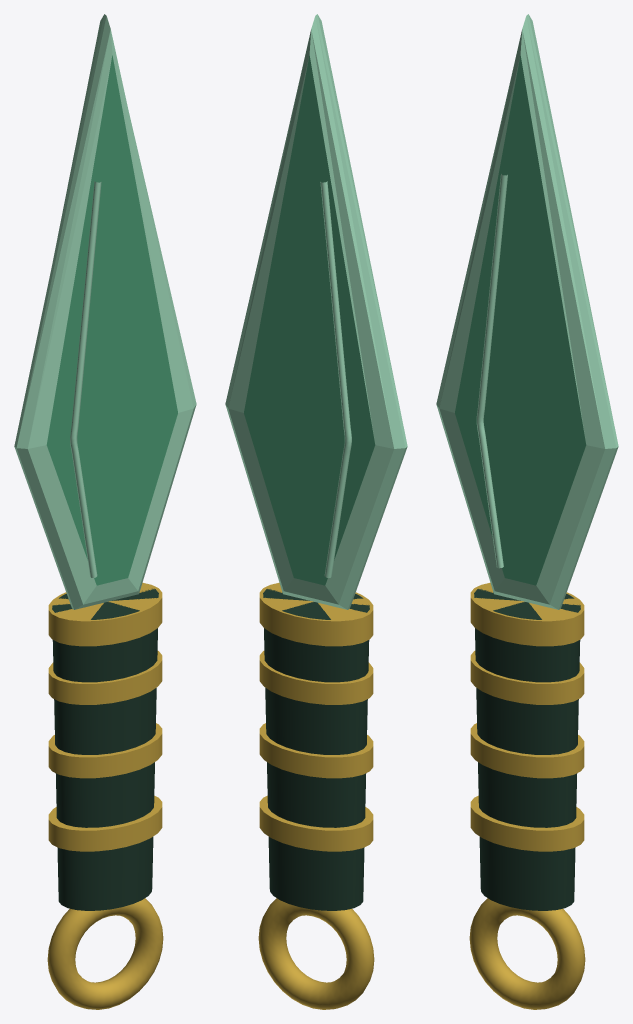
File: 09_Uncommon_Jade_Kunai.glb
The picture shows the model from 3 angles, left to right: view 1: azimuth 30°, elevation 25°; view 2: azimuth 150°, elevation 25°; view 3: azimuth 330°, elevation 25°; orthographic projection.
Parts seen in each view (by area): view 1: blade_0, handle_1, pommel_ring_6, ferrule_5, blade_inlay_8, handle_band_4, handle_band_3, handle_band_2; view 2: blade_0, handle_1, pommel_ring_6, ferrule_5, blade_inlay_7, handle_band_4, handle_band_3, handle_band_2; view 3: blade_0, handle_1, pommel_ring_6, ferrule_5, blade_inlay_8, handle_band_4, handle_band_3, handle_band_2.
Part boxes in pixels (bbox=[...]): blade_0: bbox=[14, 14, 196, 609]; handle_1: bbox=[52, 588, 158, 910]; pommel_ring_6: bbox=[47, 898, 163, 1009]; ferrule_5: bbox=[48, 582, 162, 646]; blade_inlay_8: bbox=[70, 181, 101, 577]; handle_band_4: bbox=[48, 795, 162, 851]; handle_band_3: bbox=[48, 723, 162, 778]; handle_band_2: bbox=[48, 651, 162, 704]; blade_0: bbox=[225, 14, 407, 609]; handle_1: bbox=[263, 589, 369, 910]; pommel_ring_6: bbox=[258, 898, 374, 1009]; ferrule_5: bbox=[259, 582, 373, 646]; blade_inlay_7: bbox=[320, 181, 351, 577]; handle_band_4: bbox=[259, 795, 373, 851]; handle_band_3: bbox=[259, 723, 373, 778]; handle_band_2: bbox=[259, 651, 373, 704]; blade_0: bbox=[436, 14, 618, 609]; handle_1: bbox=[474, 589, 580, 910]; pommel_ring_6: bbox=[469, 898, 585, 1009]; ferrule_5: bbox=[470, 582, 584, 646]; blade_inlay_8: bbox=[476, 174, 507, 568]; handle_band_4: bbox=[470, 795, 584, 851]; handle_band_3: bbox=[470, 723, 584, 778]; handle_band_2: bbox=[470, 651, 584, 704].
Size of the model in its own units: 0.09 by 0.474 by 0.0362.
Materials: 7 (7 with a texture image).
